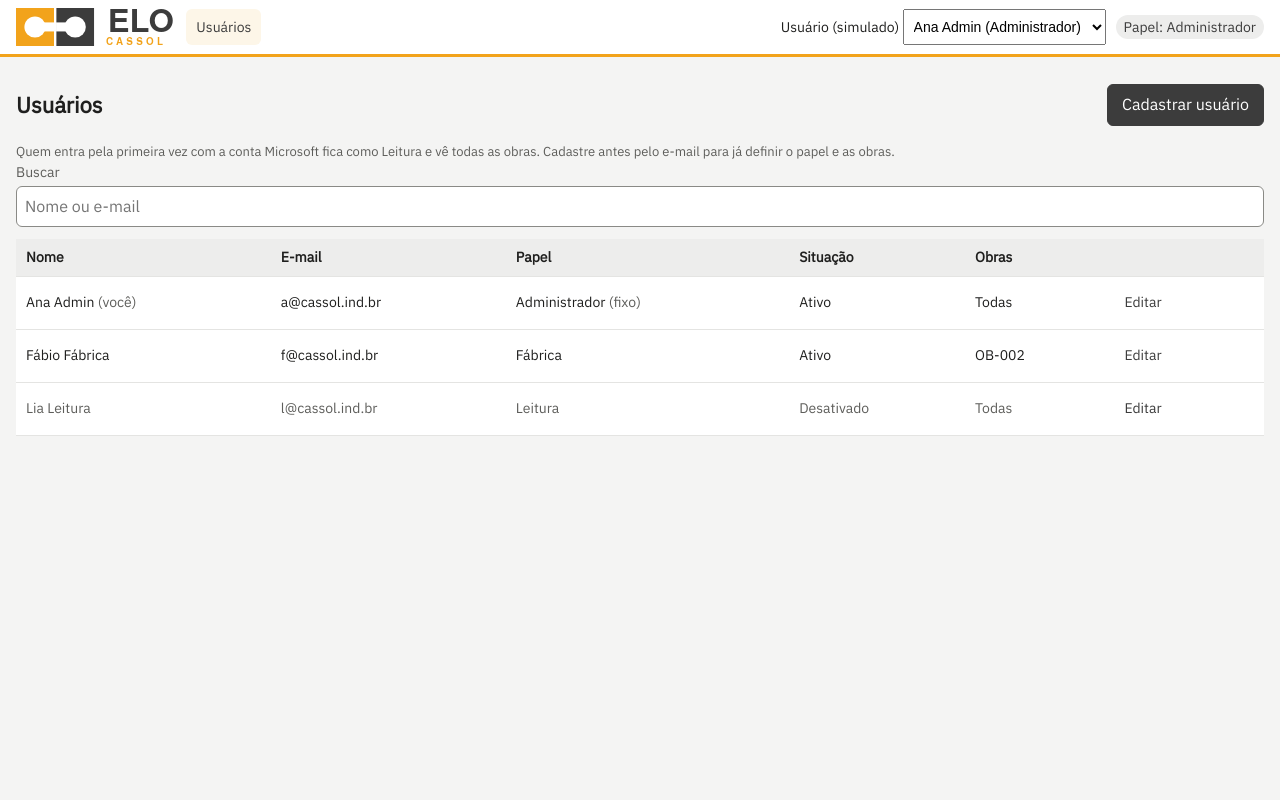
Test: Tela Usuários › restringe as obras de um usuário
Click the button with aria-label "Editar Fábio Fábrica" at (1143, 356), box top-left (1112, 338), bottom-right (1175, 374)
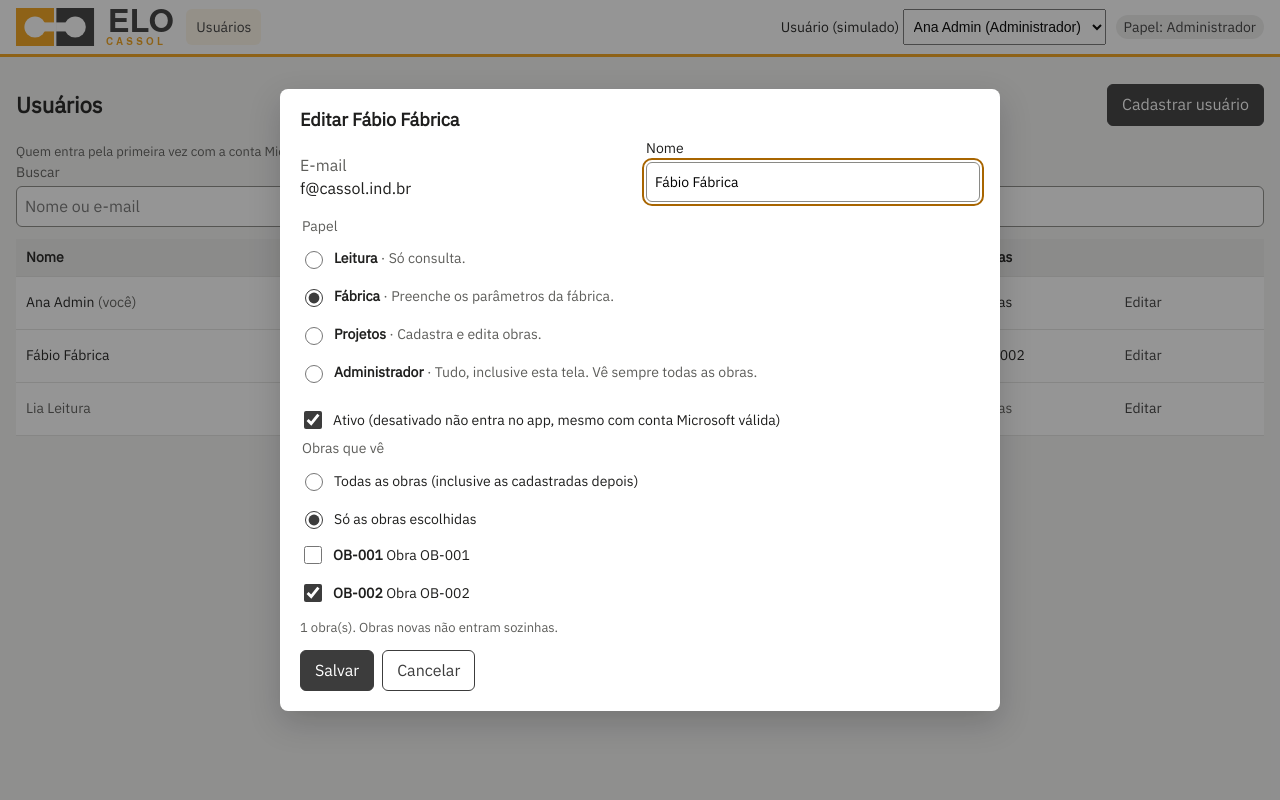
Expected: the radio button labelled "Só as obras escolhidas" is checked, top-left (305, 511), bottom-right (323, 529)
Click the checkbox labelled "OB-001 Obra OB-001" at (313, 555), box top-left (304, 546), bottom-right (322, 564)
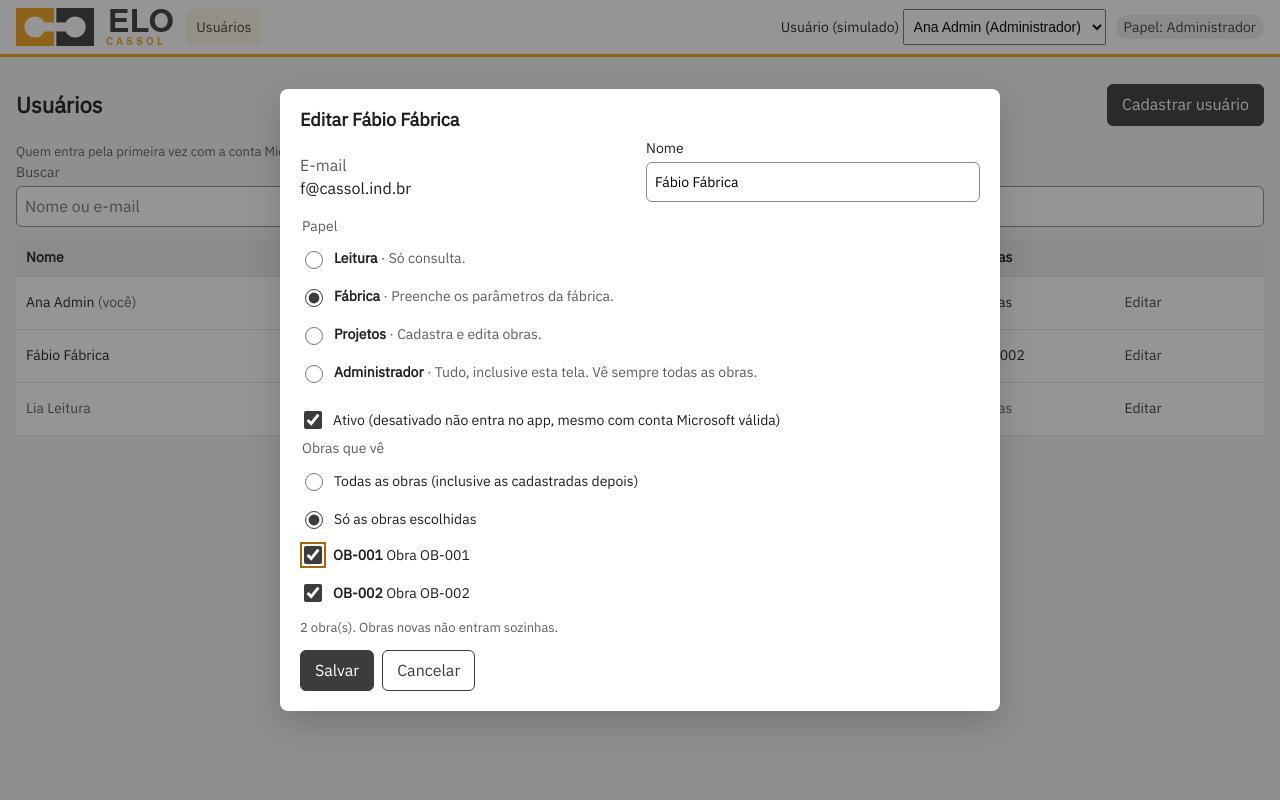
Click the button "Salvar" at (337, 670), box top-left (300, 650), bottom-right (374, 691)
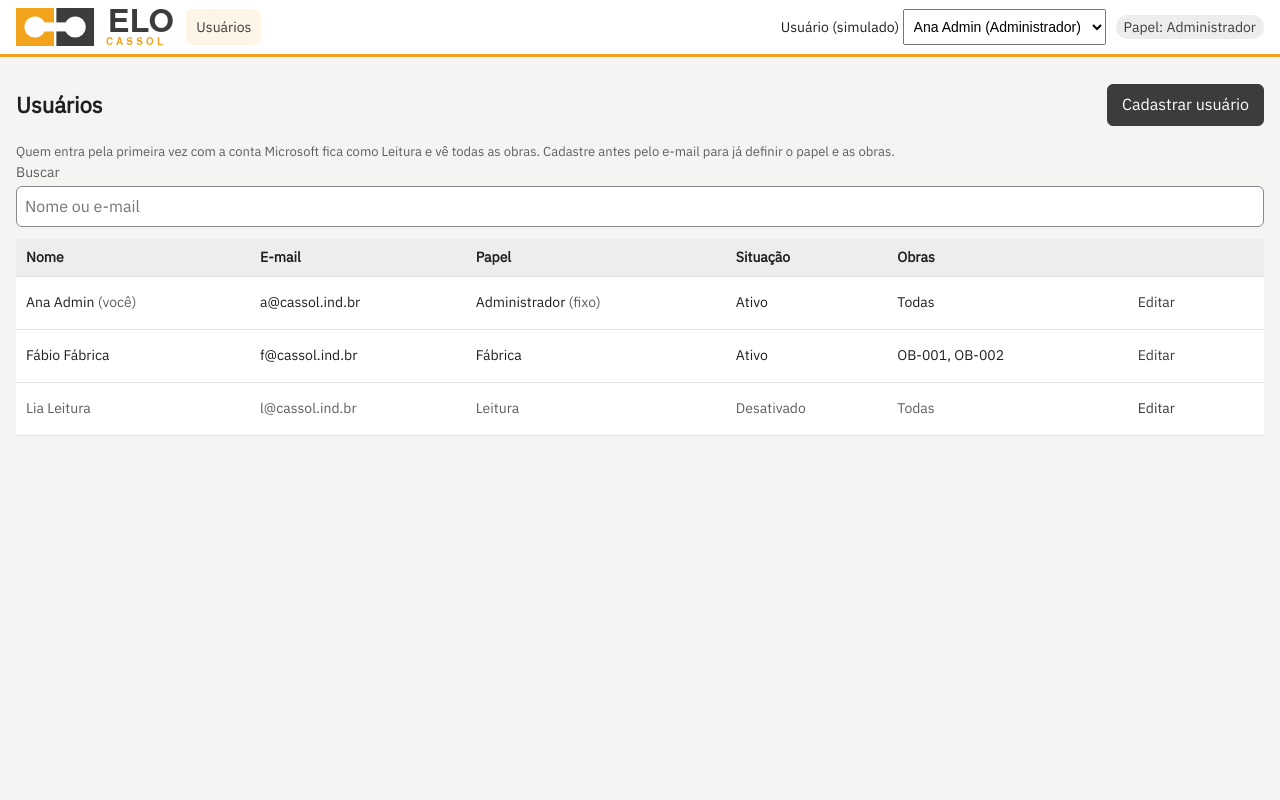
Expected: the dialog is gone
